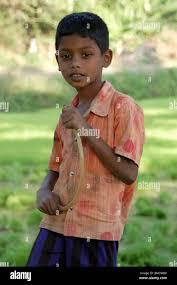Human: (33, 12, 130, 249)
